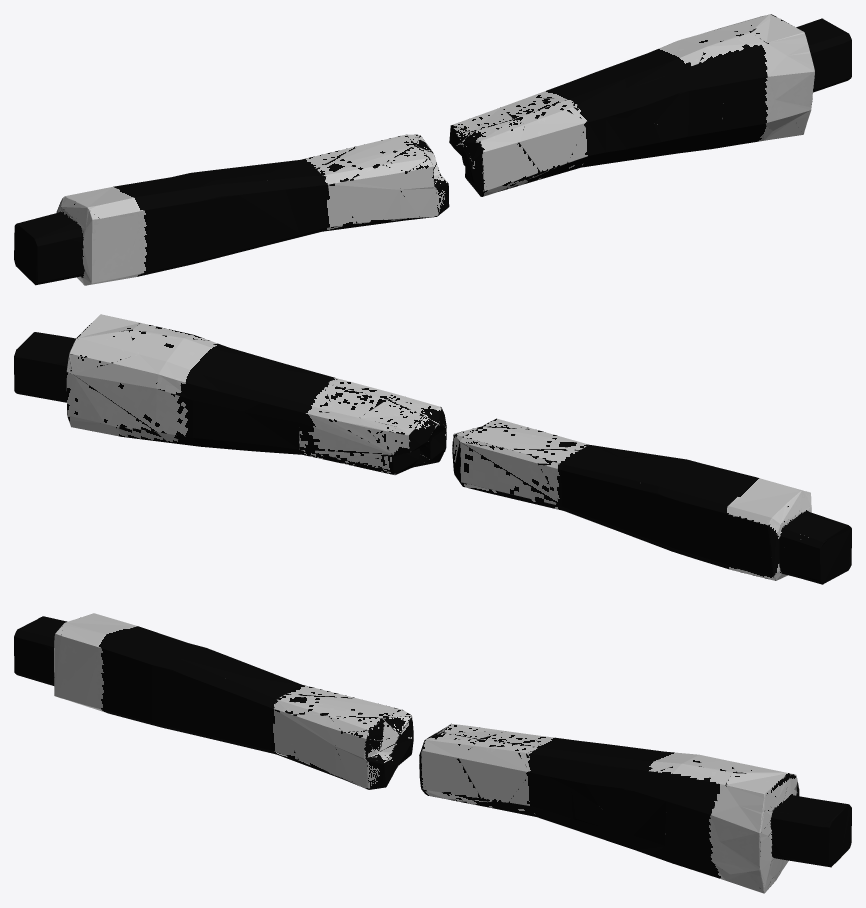
The picture shows the model from 3 angles, top to bottom: view 1: azimuth 30°, elevation 25°; view 2: azimuth 150°, elevation 25°; view 3: azimuth 330°, elevation 25°; orthographic projection.
Visible parts, largest first — view 1: OBJ09f; view 2: OBJ09f; view 3: OBJ09f.
Boxes of the visible parts, bbox=[...] form: OBJ09f: bbox=[14, 14, 851, 285]; OBJ09f: bbox=[14, 314, 851, 584]; OBJ09f: bbox=[14, 613, 851, 893].
Bounding box in the file's own units: 0.3028 × 0.0371 × 0.0373.
Materials: 1 (1 with a texture image).
